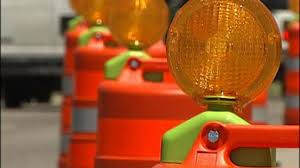barrel: (72, 50, 179, 168), (65, 34, 155, 168), (103, 85, 208, 168)
